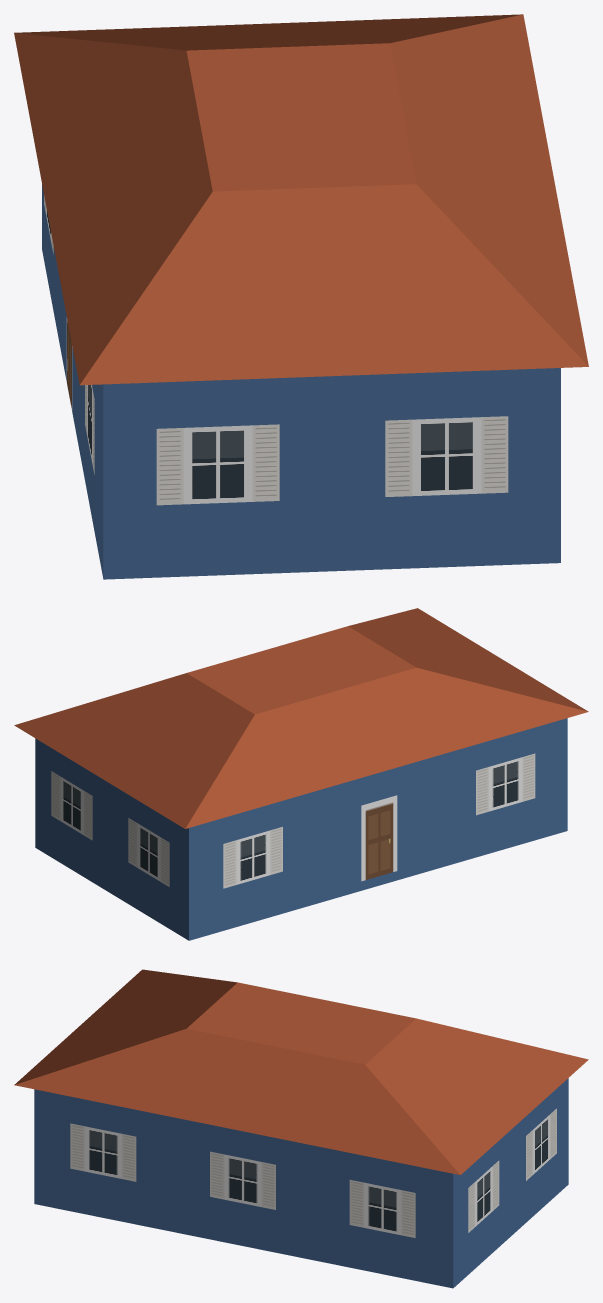
File: msb_sannicolas_13_23.glb
3 views of the same model, one above another, from view 1: azimuth 30°, elevation 25°; view 2: azimuth 150°, elevation 25°; view 3: azimuth 270°, elevation 25° (orthographic). The views are drawn at different scales.
Parts seen in each view (by area): view 1: msb_sannicolas_13_23_lod0; view 2: msb_sannicolas_13_23_lod0; view 3: msb_sannicolas_13_23_lod0.
Boxes of the visible parts, left/top/right/bottom form: msb_sannicolas_13_23_lod0: left=14, top=14, right=588, bottom=579; msb_sannicolas_13_23_lod0: left=14, top=608, right=588, bottom=940; msb_sannicolas_13_23_lod0: left=14, top=969, right=588, bottom=1288.
Size of what is drawn, in the model's own units: 12.67 by 4.9 by 14.96.
2 materials, 1 textured.
